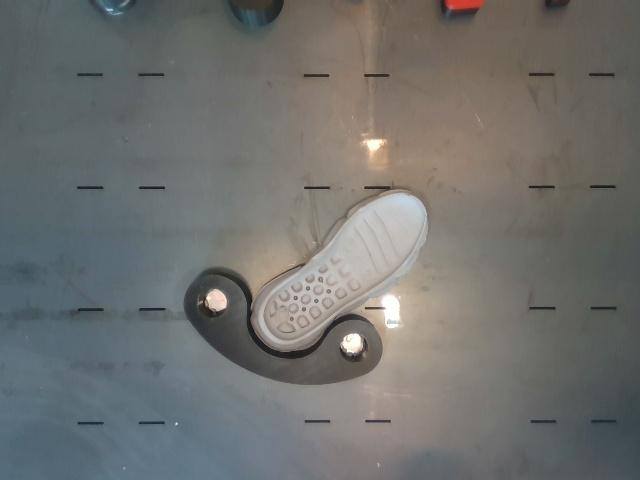shoes: (263, 194, 426, 341)
